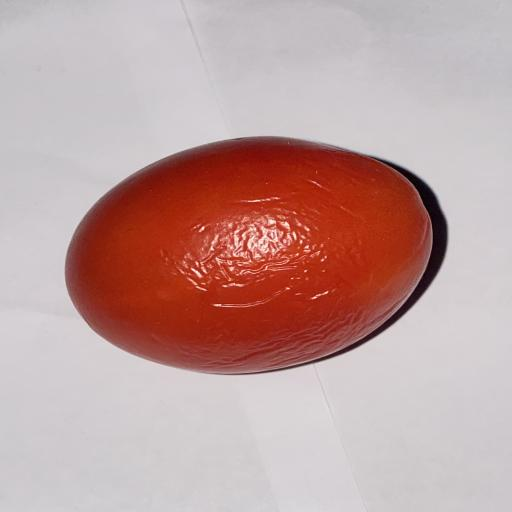spoiled: (66, 137, 432, 373)
